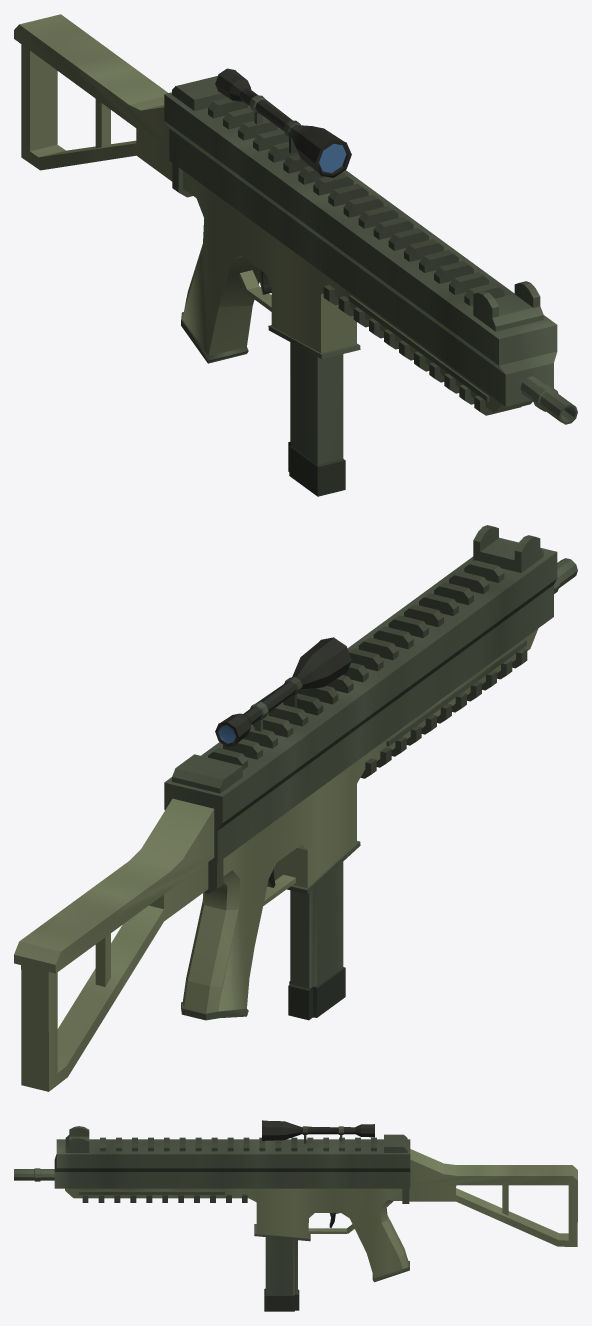
3 views of the same model, one above another, from view 1: azimuth 30°, elevation 25°; view 2: azimuth 150°, elevation 25°; view 3: azimuth 270°, elevation 25° (orthographic). The views are drawn at different scales.
Visible parts, largest first — view 1: mk9; view 2: mk9; view 3: mk9.
Boxes of the visible parts, bbox=[...] form: mk9: bbox=[14, 14, 577, 496]; mk9: bbox=[14, 525, 577, 1091]; mk9: bbox=[14, 1120, 577, 1311].
Size of the model in its own units: 0.0393 by 0.2275 by 0.62.
Materials: 1 (1 with a texture image).
